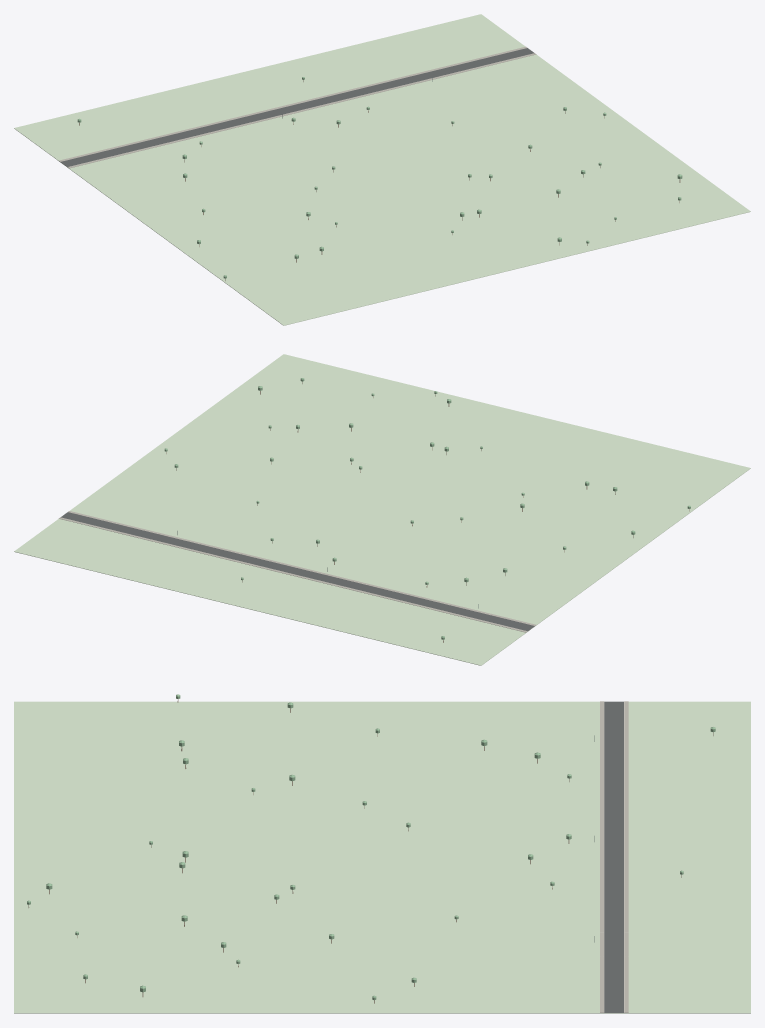
File: chunk_1_4_low.glb
The picture shows the model from 3 angles, top to bottom: view 1: azimuth 30°, elevation 25°; view 2: azimuth 150°, elevation 25°; view 3: azimuth 270°, elevation 25°; orthographic projection. The views are drawn at different scales.
Parts seen in each view (by area): view 1: city_grass, city_world_asphalt, city_world_sidewalk, city_curb, city_foliage_dark; view 2: city_grass, city_world_asphalt, city_world_sidewalk, city_curb, city_foliage_dark; view 3: city_grass, city_world_asphalt, city_world_sidewalk, city_foliage_dark, city_curb.
Part boxes in pixels (<box>): city_grass: <box>14,14,750,325</box>; city_world_asphalt: <box>61,48,534,166</box>; city_world_sidewalk: <box>59,46,536,168</box>; city_curb: <box>60,47,533,166</box>; city_foliage_dark: <box>77,77,682,278</box>; city_grass: <box>14,354,750,665</box>; city_world_asphalt: <box>61,512,534,631</box>; city_world_sidewalk: <box>59,511,536,632</box>; city_curb: <box>62,512,534,630</box>; city_foliage_dark: <box>164,378,690,639</box>; city_grass: <box>14,701,750,1013</box>; city_world_asphalt: <box>604,701,623,1012</box>; city_world_sidewalk: <box>600,701,628,1012</box>; city_foliage_dark: <box>27,694,715,1000</box>; city_curb: <box>600,701,628,1012</box>.
Bounding box in the file's own units: 512 × 9.36 × 512.
